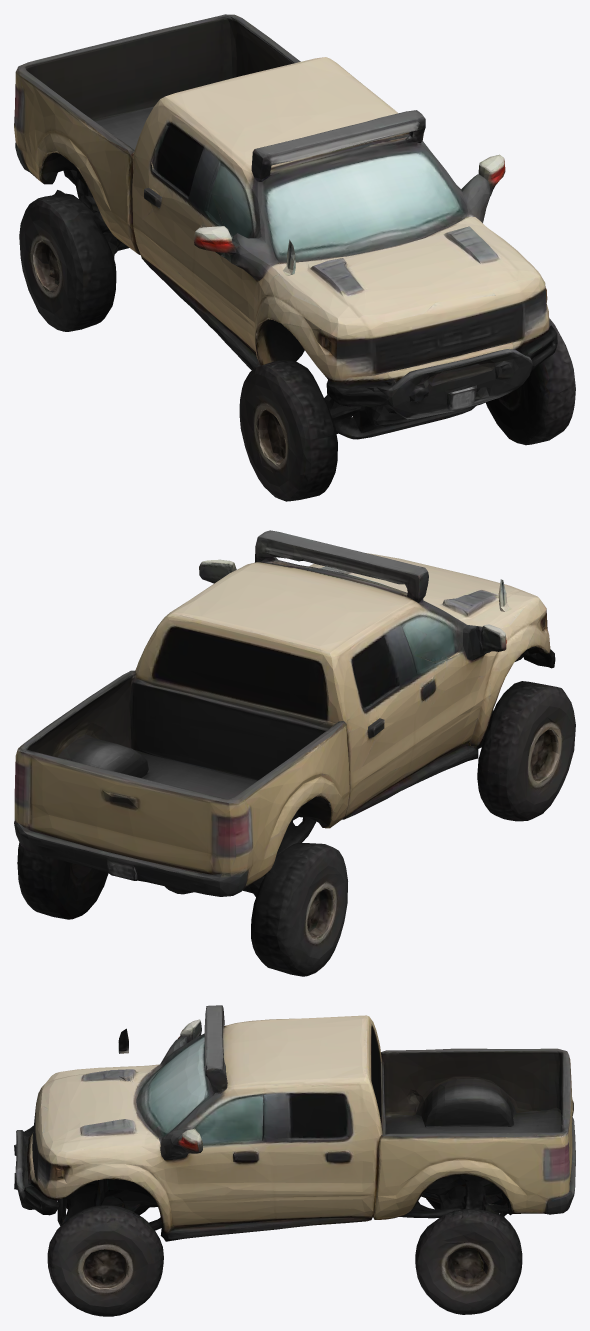
3 views of the same model, one above another, from view 1: azimuth 30°, elevation 25°; view 2: azimuth 150°, elevation 25°; view 3: azimuth 270°, elevation 25° (orthographic). The views are drawn at different scales.
Parts seen in each view (by area): view 1: geometry_0; view 2: geometry_0; view 3: geometry_0.
Boxes of the visible parts, <box> form: geometry_0: <box>14,14,575,501</box>; geometry_0: <box>14,530,575,976</box>; geometry_0: <box>14,1005,575,1316</box>.
Bounding box in the file's own units: 0.512 × 0.4525 × 0.9959.
1 material, 1 textured.
